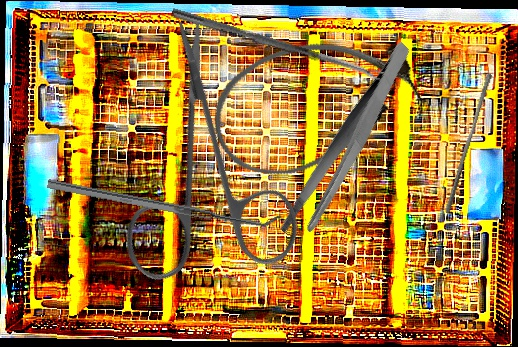Cannula: (196, 13, 433, 194)
Dressing Forceps: (243, 40, 454, 247)
Iris Scissors: (42, 11, 367, 337)
Pusher: (444, 72, 493, 215)
Spatula Surgical: (46, 170, 282, 233)
Surgical Spoon: (170, 8, 384, 82)
